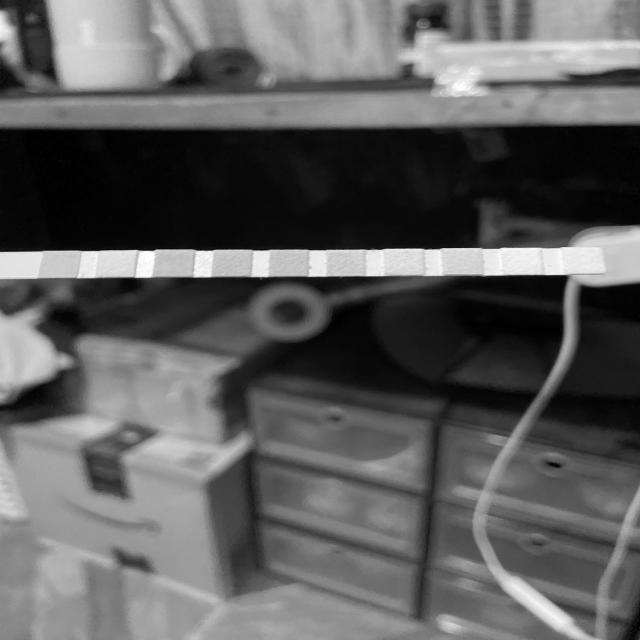Bilirubin: (100, 251, 134, 277)
Blood: (271, 250, 307, 276)
Glucose: (44, 251, 77, 277)
Ketone: (157, 250, 192, 277)
Leukocytes: (566, 248, 600, 274)
Nitrite: (505, 249, 541, 274)
Protein: (386, 249, 422, 275)
SpGravity: (214, 250, 250, 277)
Urobilinogen: (442, 248, 480, 275)
background: (0, 0, 640, 640)
pH: (328, 250, 364, 276)
strip: (0, 248, 607, 280)
